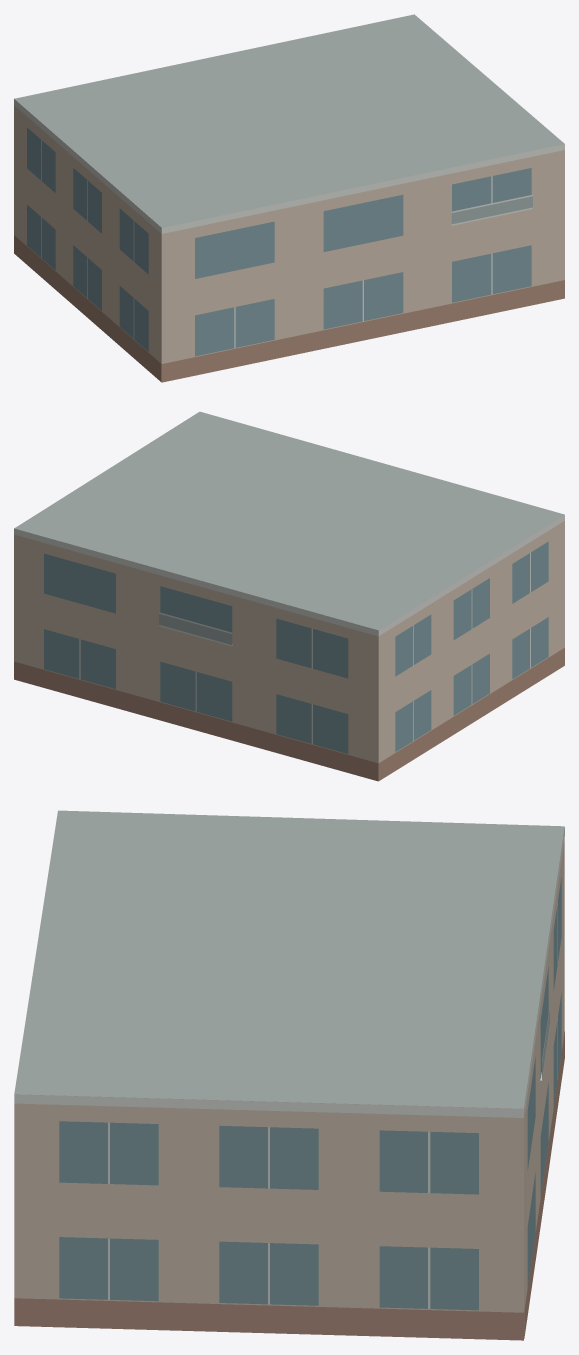
Rendered from survey-upis-32587285.glb.
3 renders of one model, top to bottom at view 1: azimuth 30°, elevation 25°; view 2: azimuth 150°, elevation 25°; view 3: azimuth 270°, elevation 25°, orthographic. The views are drawn at different scales.
Parts seen in each view (by area): view 1: survey-upis-32587285.tmp; view 2: survey-upis-32587285.tmp; view 3: survey-upis-32587285.tmp.
Boxes of the visible parts, bbox=[...] form: survey-upis-32587285.tmp: bbox=[14, 14, 564, 382]; survey-upis-32587285.tmp: bbox=[14, 411, 564, 781]; survey-upis-32587285.tmp: bbox=[14, 810, 564, 1340].
Size of the model in its own units: 16.86 by 6.1 by 13.15.
